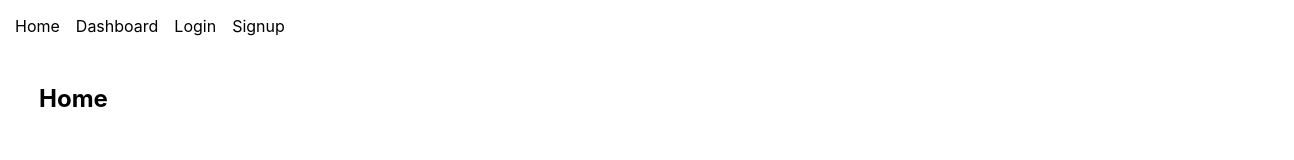
Test: test for app › renders unauthorized message after clicking /dashboard
Click the link "Dashboard": (117, 26) [76,16,158,36]
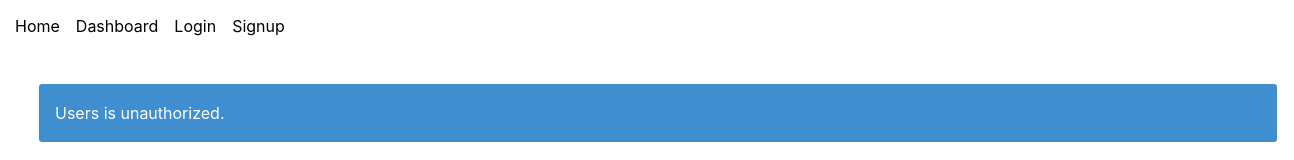
Expected: the text "Users is unauthorized." is shown, [55,103,224,123]
